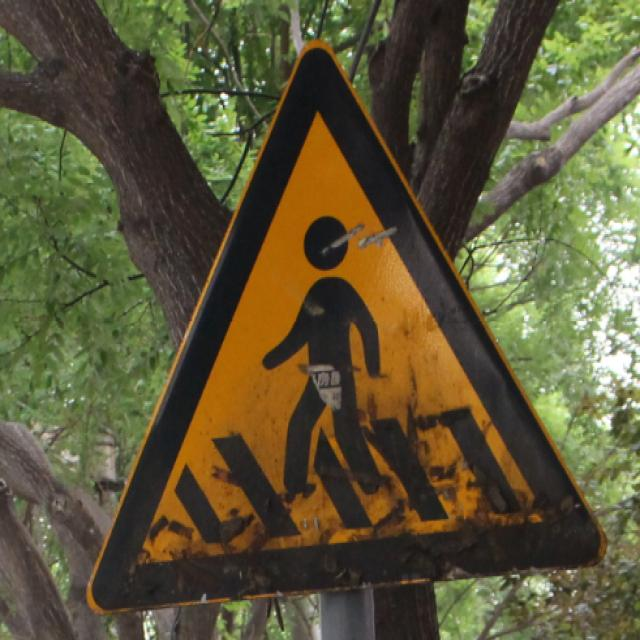Crossing: (62, 37, 621, 626)
